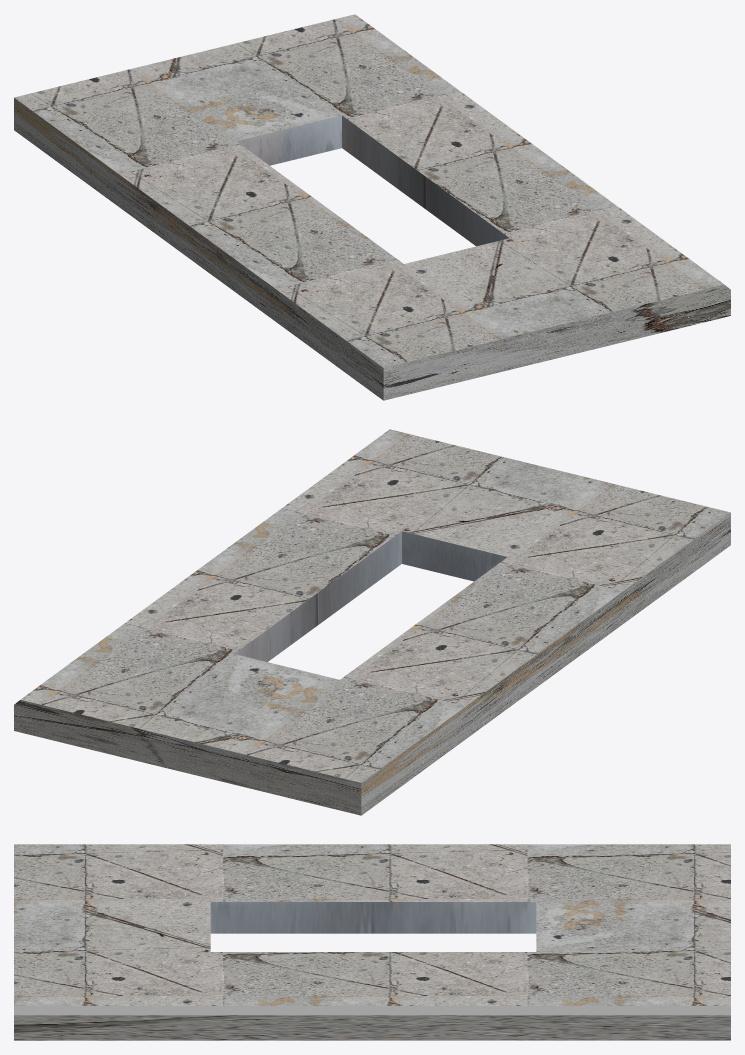
Rendered from elevator_platform.fbx.
3 renders of one model, top to bottom at view 1: azimuth 30°, elevation 25°; view 2: azimuth 150°, elevation 25°; view 3: azimuth 270°, elevation 25°, orthographic. The views are drawn at different scales.
Parts seen in each view (by area): view 1: polySurface682; view 2: polySurface682; view 3: polySurface682.
Boxes of the visible parts, left/top/right/bottom form: polySurface682: left=14, top=14, right=730, bottom=400; polySurface682: left=14, top=429, right=730, bottom=815; polySurface682: left=14, top=844, right=730, bottom=1040.
Size of the model in its own units: 2.71 by 0.2437 by 4.99.
